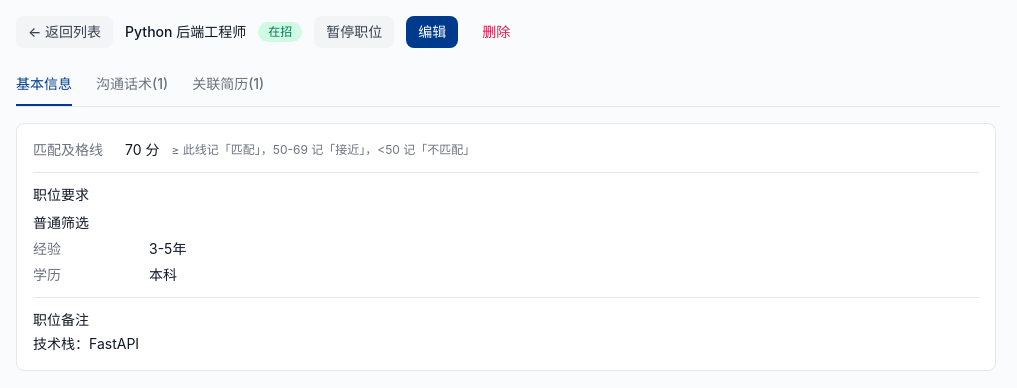
Scenario: JobDetail 挂载冒烟 › 关联简历 tab 用 job_id 筛选并渲染候选人行
The image size is (1017, 388).
# 切到关联简历 tab 后渲染候选人行
Click the button "关联简历(1)".
click(228, 85)  # box x1=192 y1=64 x2=264 y2=106
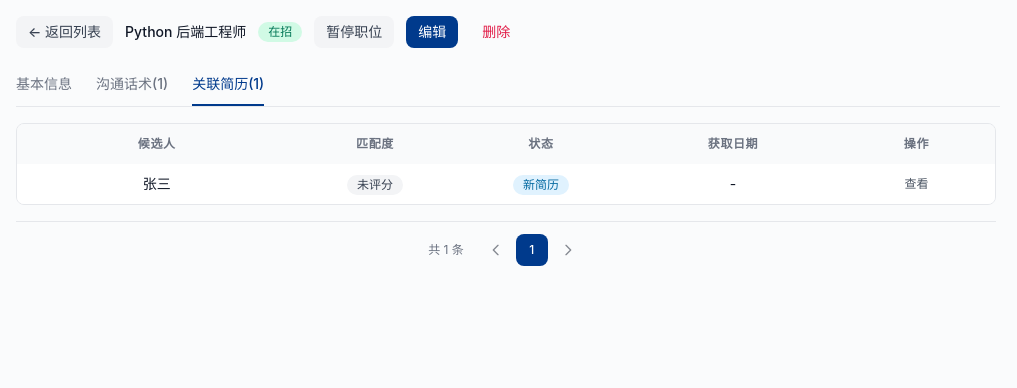
Now the text "张三" is shown, box x1=17 y1=164 x2=296 y2=204
